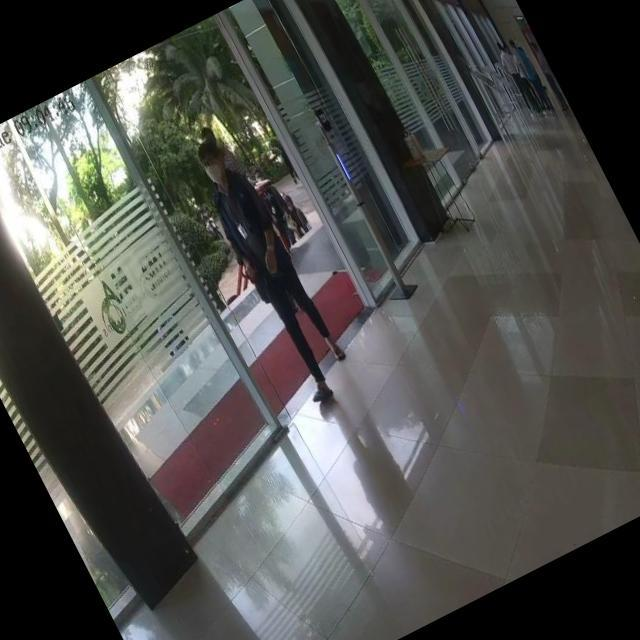person: (182, 130, 364, 412)
